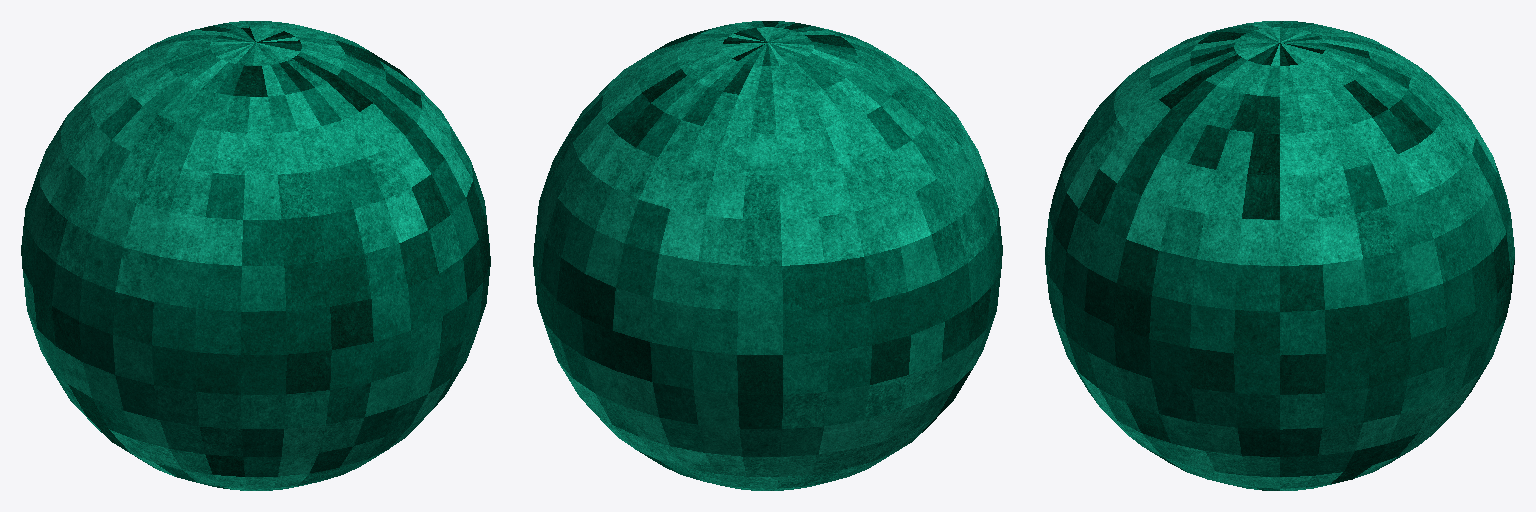
The picture shows the model from 3 angles: view 1: azimuth 30°, elevation 25°; view 2: azimuth 150°, elevation 25°; view 3: azimuth 270°, elevation 25°; orthographic projection.
Parts seen in each view (by area): view 1: Sphere; view 2: Sphere; view 3: Sphere.
Part boxes in pixels (left/top/right/bottom): Sphere: left=21, top=21, right=490, bottom=490; Sphere: left=533, top=21, right=1002, bottom=490; Sphere: left=1045, top=21, right=1514, bottom=490.
Bounding box in the file's own units: 0.6 × 0.6 × 0.6.
1 materials, 1 textured.